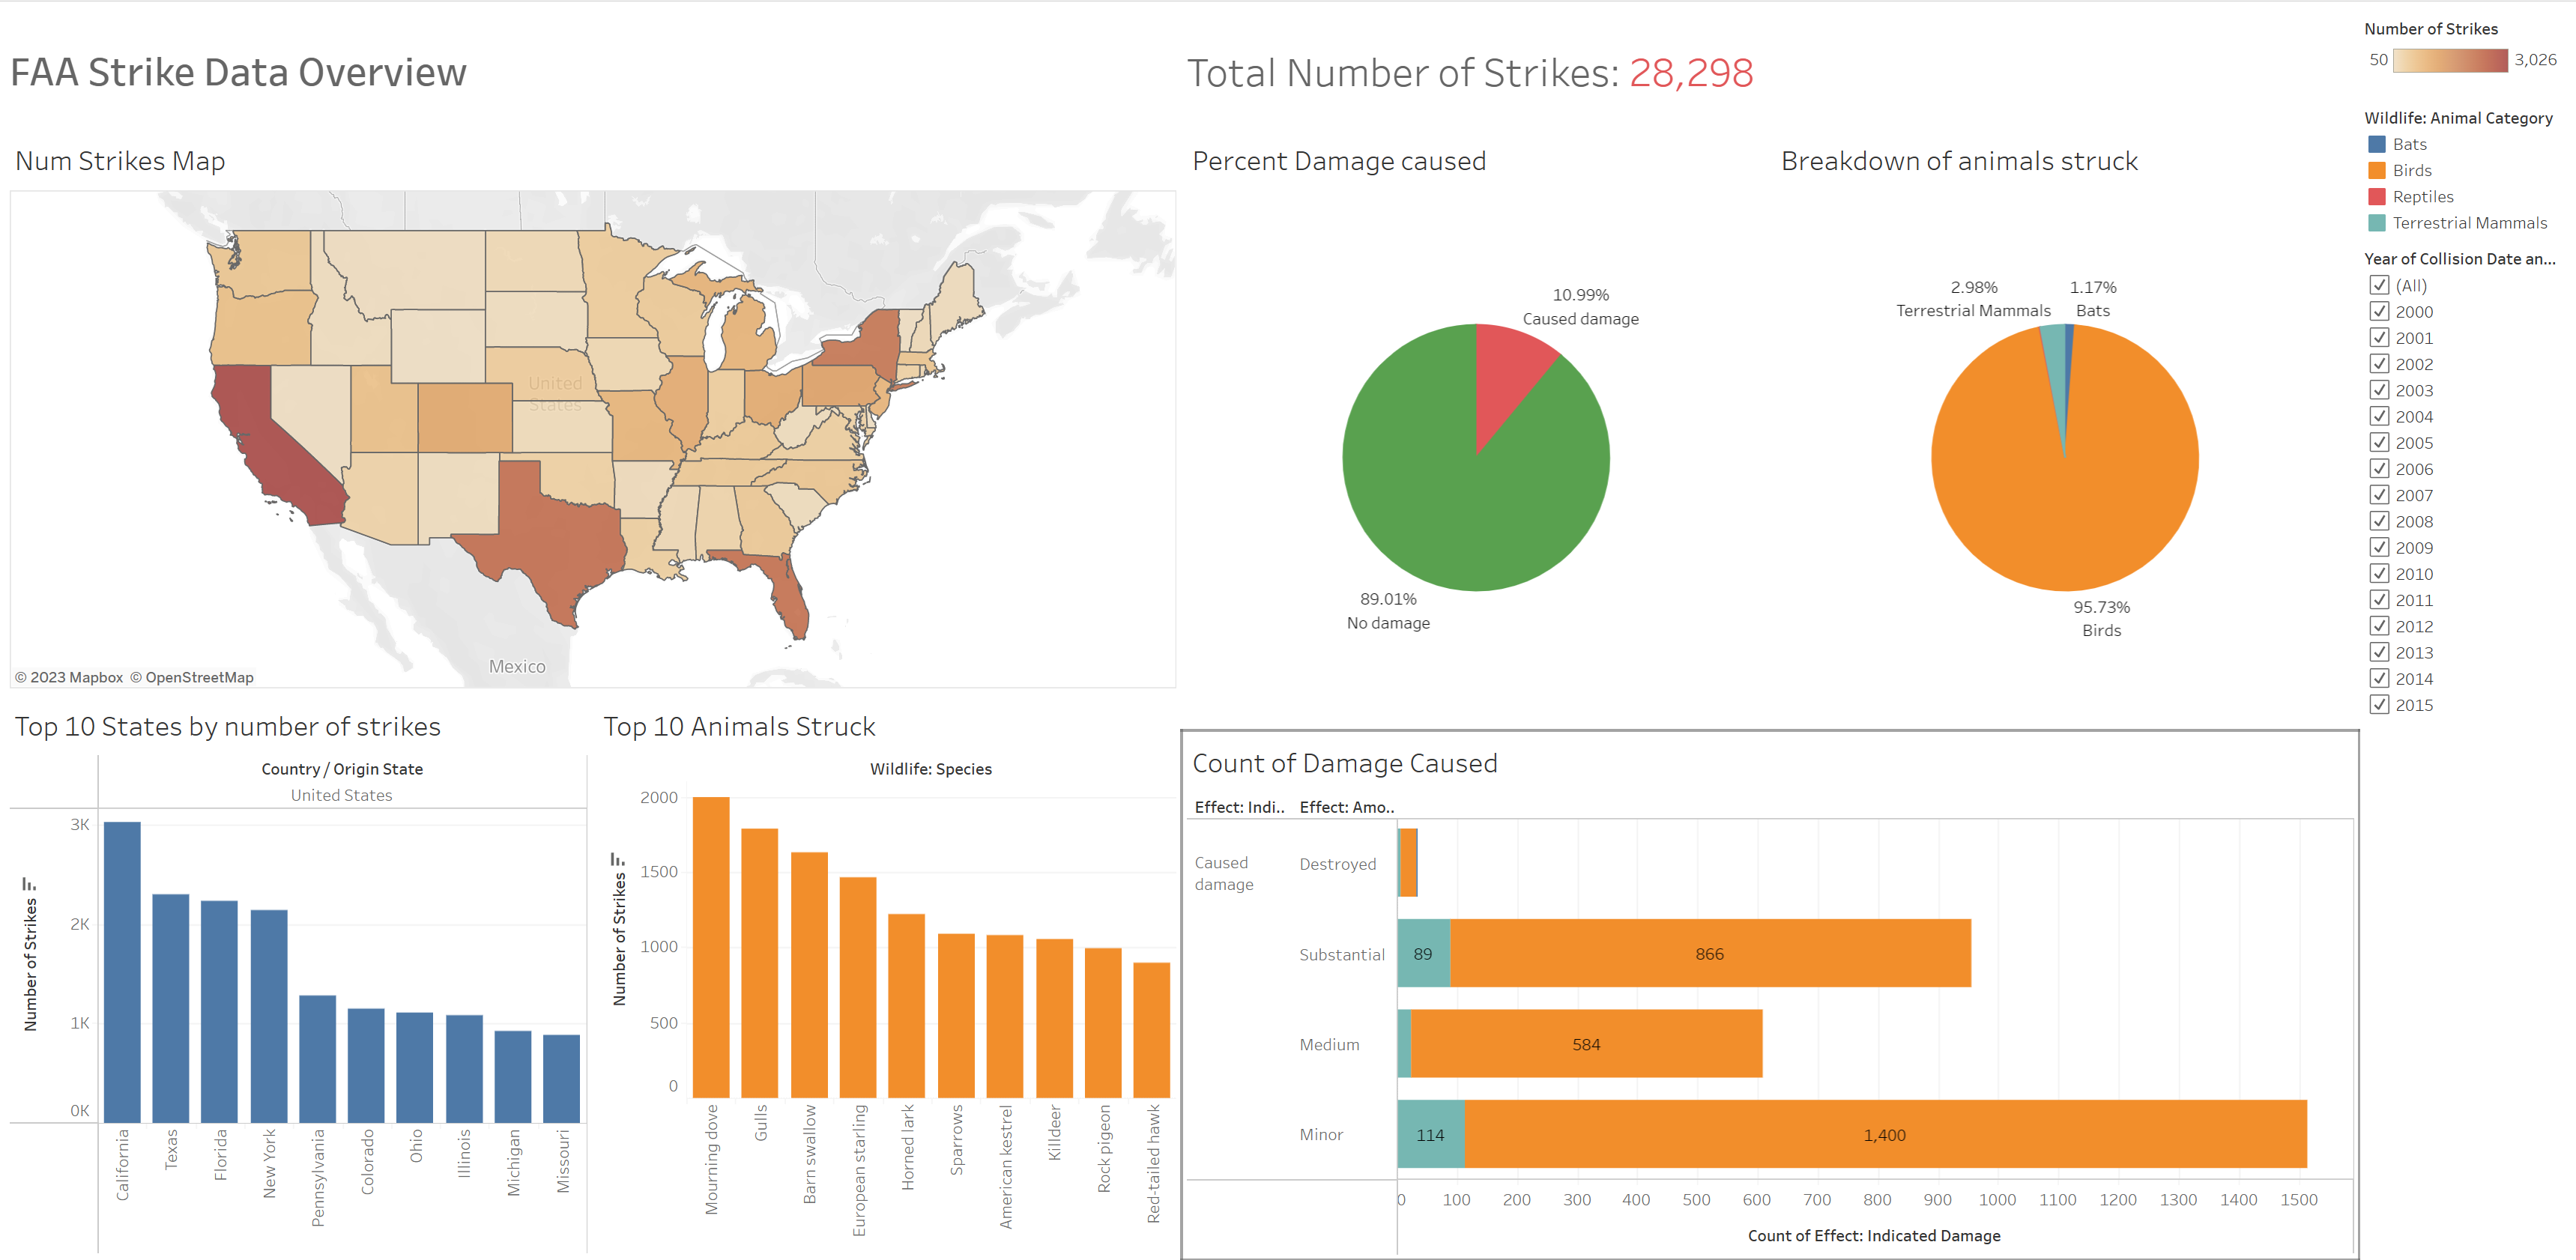

What the dashboard file says about the page in this screenshot:
{"tool":"tableau","page":{"name":"Overview","canvas":[1000,1000],"units":"permille","ordinal":1},"visuals":[{"type":"text","box":[4.1,8.3,455.1,91.7]},{"type":"text","box":[459.2,8.3,455.6,91.7]},{"type":"legend","title":"Num Strikes Map","param":"[federated.09g25mg09rkg6w10kiey40u899o3].[sum:Number of Strikes:qk]","box":[914.8,8.3,81.1,70.2]},{"type":"legend","title":"Percent Total of animals struck","param":"[federated.09g25mg09rkg6w10kiey40u899o3].[none:Wildlife: Animal Category:nk]","box":[914.8,78.5,81.1,110.5]},{"type":"worksheet","title":"Num Strikes Map","mark":"Automatic","box":[4.1,100,455.2,445.8]},{"type":"worksheet","title":"Percent Damage caused","mark":"Pie","box":[459.2,100,227.7,474.4]},{"type":"worksheet","title":"Percent Total of animals struck","mark":"Pie","box":[687,100,227.8,474.4]},{"type":"filter","title":"Top 10 Animals","param":"[federated.09g25mg09rkg6w10kiey40u899o3].[yr:Collision Date and Time:ok]","box":[914.8,189,81.1,385.3]},{"type":"worksheet","title":"Top 10 States by number of strikes","mark":"Automatic","rows":["Number of Strikes"],"cols":["Country","Origin State"],"box":[4.1,545.7,227.6,446]},{"type":"worksheet","title":"Top 10 Animals","mark":"Automatic","rows":["Number of Strikes"],"cols":[" Species"],"box":[231.6,545.7,227.6,446]},{"type":"worksheet","title":"Count of Damage Caused","mark":"Automatic","rows":[" Indicated Damage"," Amount of damage (detailed)"],"cols":[" Indicated Damage"],"box":[459.2,574.4,455.6,417.4]}]}

Visuals, with their boxes on the dashboard's canvas, which has no fixed pixel size, in thousandths of its width and height (x1, y1, x2, y2). These are canvas units, not pixel positions in the 2576x1260 screenshot, which may show the page scaled, cropped or inside an application window:
text: [4,8,459,100]
text: [459,8,915,100]
"Num Strikes Map" legend: [915,8,996,78]
"Percent Total of animals struck" legend: [915,78,996,189]
"Num Strikes Map" worksheet: [4,100,459,546]
"Percent Damage caused" worksheet (Pie marks): [459,100,687,574]
"Percent Total of animals struck" worksheet (Pie marks): [687,100,915,574]
"Top 10 Animals" filter: [915,189,996,574]
"Top 10 States by number of strikes" worksheet: [4,546,232,992]
"Top 10 Animals" worksheet: [232,546,459,992]
"Count of Damage Caused" worksheet: [459,574,915,992]
